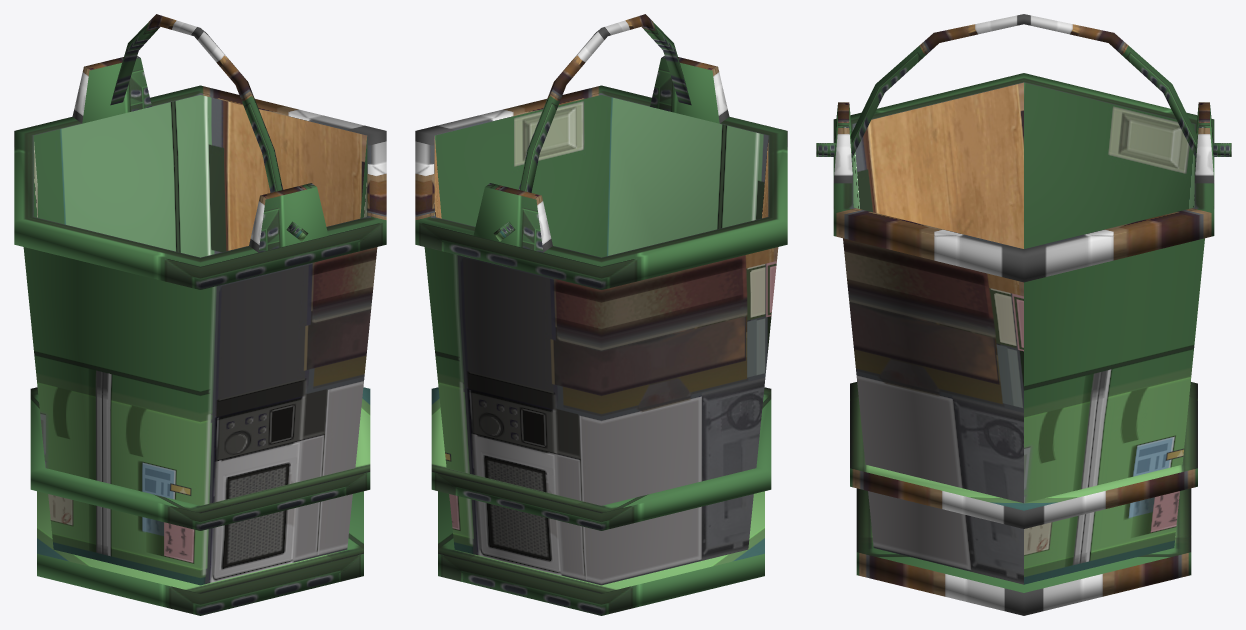
Rendered from jj-tong.FBX.
The picture shows the model from 3 angles, left to right: view 1: azimuth 30°, elevation 25°; view 2: azimuth 150°, elevation 25°; view 3: azimuth 270°, elevation 25°; orthographic projection. The views are drawn at different scales.
Visible parts, largest first — view 1: jj-tong; view 2: jj-tong; view 3: jj-tong.
Part boxes in pixels (box(x1,y1,x2,y2)): jj-tong: box(14, 14, 386, 615); jj-tong: box(415, 14, 787, 615); jj-tong: box(816, 14, 1231, 615).
Bounding box in the file's own units: 37.39 × 35.33 × 48.82.
